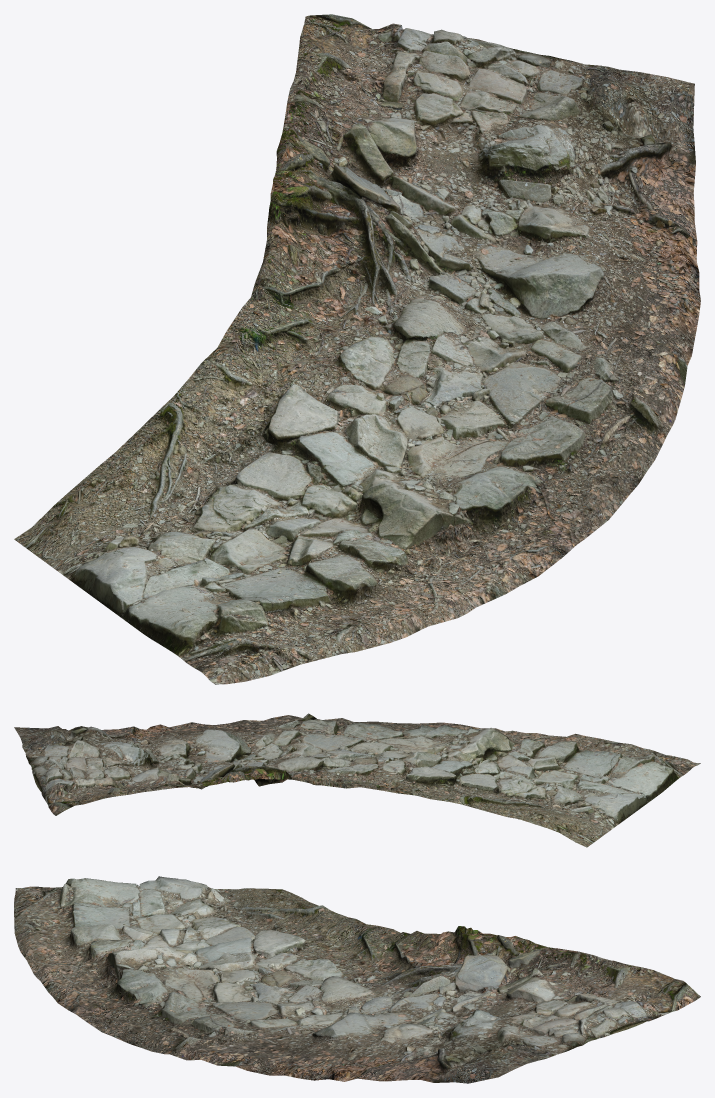
Rendered from sm_Path_01_02.fbx.
The picture shows the model from 3 angles, top to bottom: view 1: azimuth 30°, elevation 25°; view 2: azimuth 150°, elevation 25°; view 3: azimuth 270°, elevation 25°; orthographic projection. The views are drawn at different scales.
Parts seen in each view (by area): view 1: sm_Path_01_02_LOD0; view 2: sm_Path_01_02_LOD0; view 3: sm_Path_01_02_LOD0.
Part boxes in pixels (x1,y1,x2,y2): sm_Path_01_02_LOD0: [14, 14, 700, 684]; sm_Path_01_02_LOD0: [14, 713, 700, 847]; sm_Path_01_02_LOD0: [14, 876, 700, 1083].
Bounding box in the file's own units: 631 × 674 × 115.
